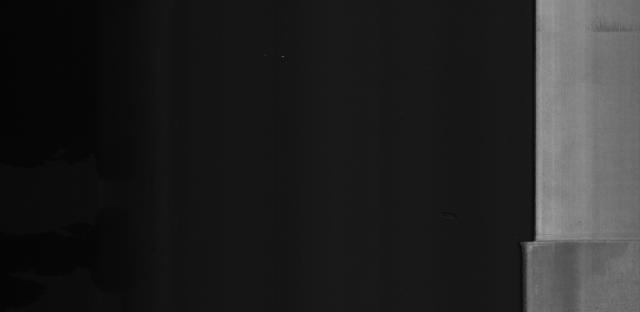rolled_pit: (587, 20, 637, 35)
welding_line: (512, 232, 640, 252)
